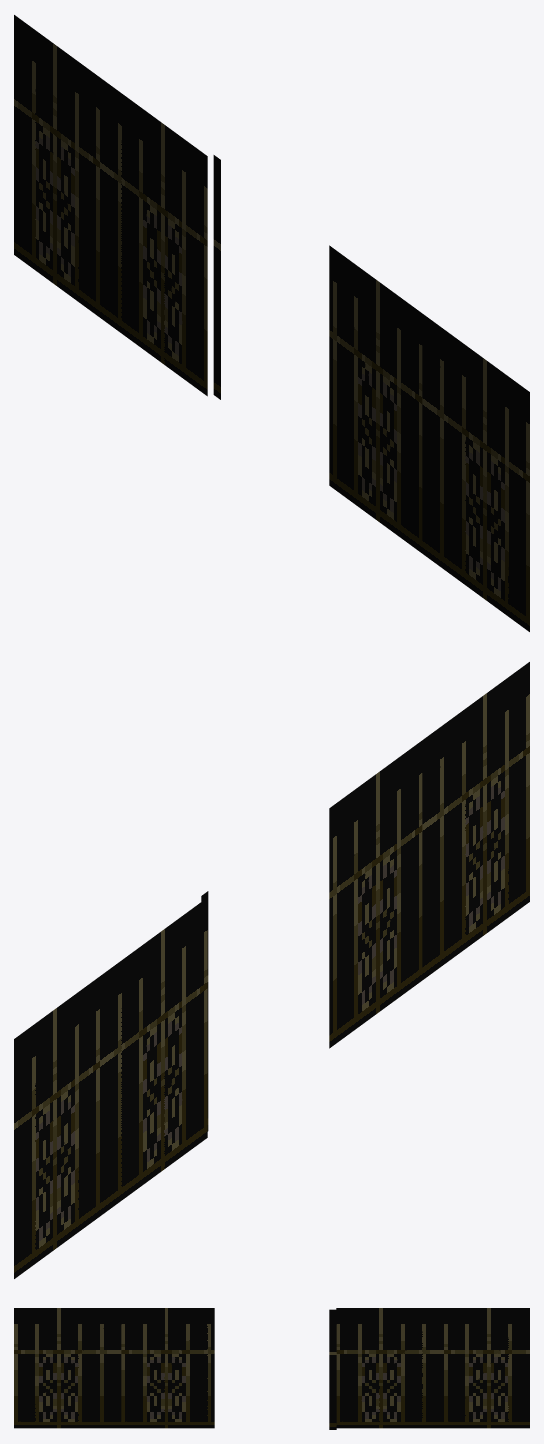
Rendered from Fence-Open.gltf.
The picture shows the model from 3 angles, top to bottom: view 1: azimuth 30°, elevation 25°; view 2: azimuth 150°, elevation 25°; view 3: azimuth 270°, elevation 25°; orthographic projection. The views are drawn at different scales.
Visible parts, largest first — view 1: Fence-Open; view 2: Fence-Open; view 3: Fence-Open.
Part boxes in pixels (x1,y1,x2,y2): Fence-Open: [14, 15, 529, 631]; Fence-Open: [14, 662, 529, 1278]; Fence-Open: [14, 1308, 529, 1429].
Size of the model in its own units: 0.0625 by 2.31 by 9.
1 material, 1 textured.
